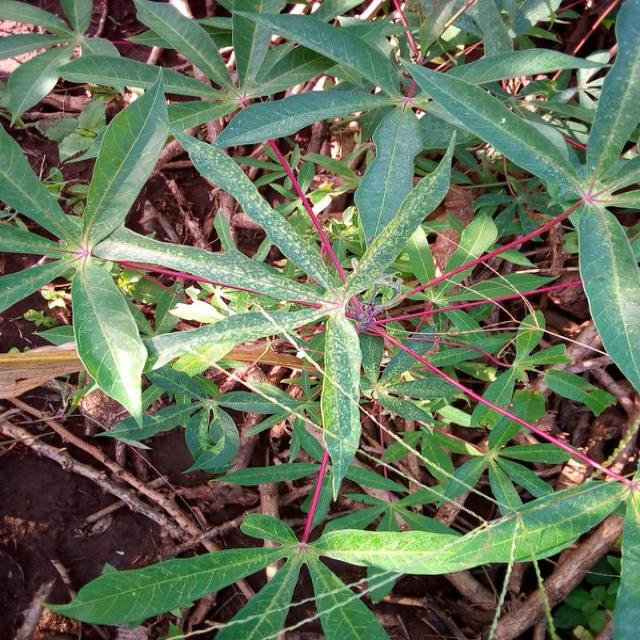cassava leaf: (2, 1, 640, 637), (82, 67, 171, 250), (321, 310, 363, 502)
